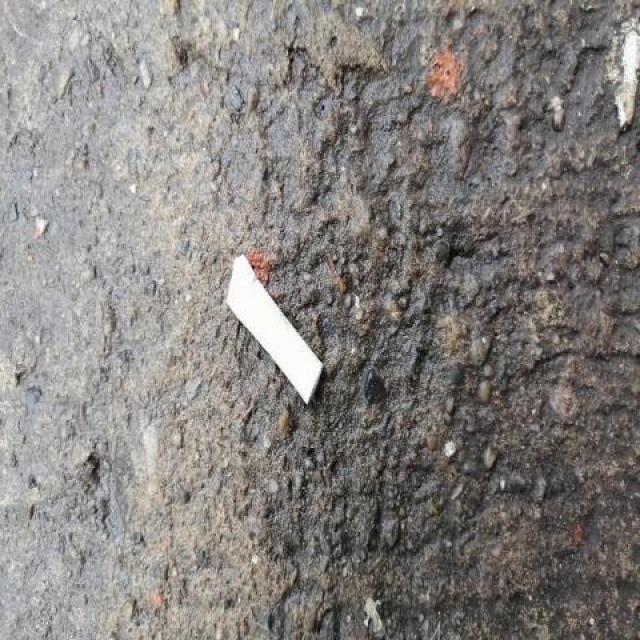non-organic waste: (219, 249, 325, 411)
